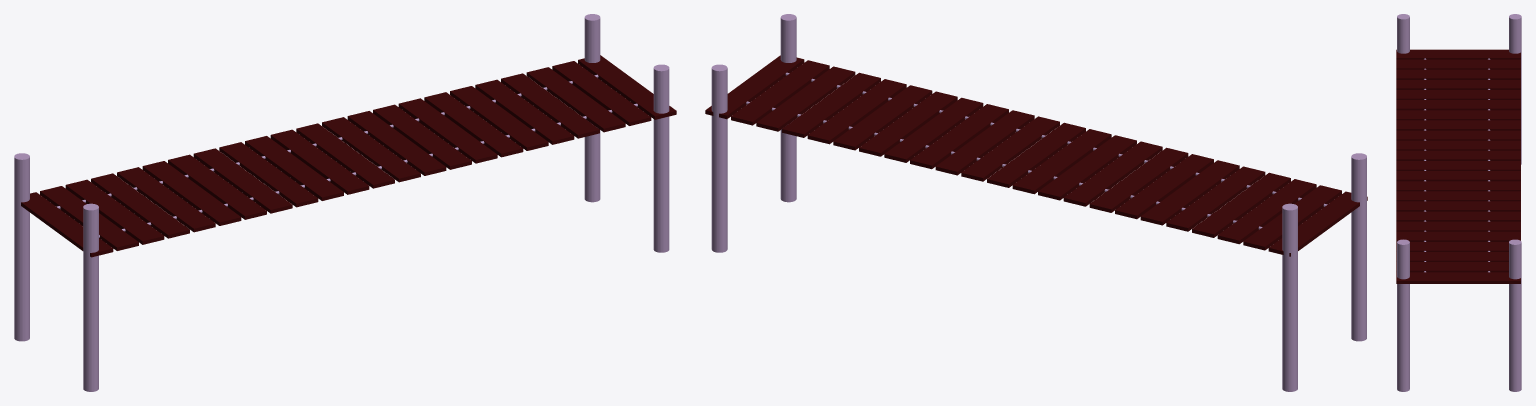
Rendered from BridgeNoRail.fbx.
3 renders of one model, left to right at view 1: azimuth 30°, elevation 25°; view 2: azimuth 150°, elevation 25°; view 3: azimuth 270°, elevation 25°, orthographic. The views are drawn at different scales.
Parts seen in each view (by area): view 1: Cube; view 2: Cube; view 3: Cube.
Boxes of the visible parts, box(x1,y1,x2,y2) form: Cube: box(14, 14, 676, 391); Cube: box(705, 14, 1367, 391); Cube: box(1396, 14, 1521, 391).
Bounding box in the file's own units: 344 × 102 × 78.5.
